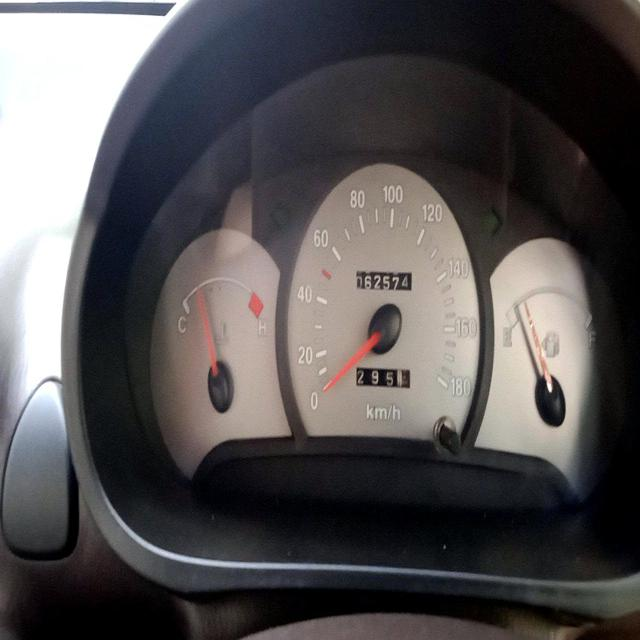odometer: (355, 270, 413, 293)
